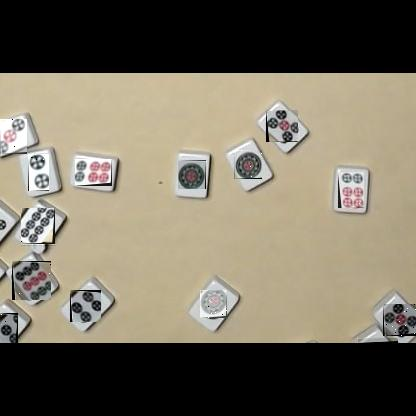1p: (234, 150, 262, 179), (178, 160, 206, 189), (200, 290, 227, 318)
2p: (28, 154, 49, 191)
3p: (0, 119, 27, 154), (357, 338, 398, 343)
4p: (70, 290, 101, 322), (0, 313, 18, 343)
5p: (383, 304, 416, 336), (266, 110, 298, 142)
6p: (75, 159, 112, 186), (338, 172, 364, 208)
8p: (21, 209, 55, 249)
9p: (12, 261, 51, 300)
